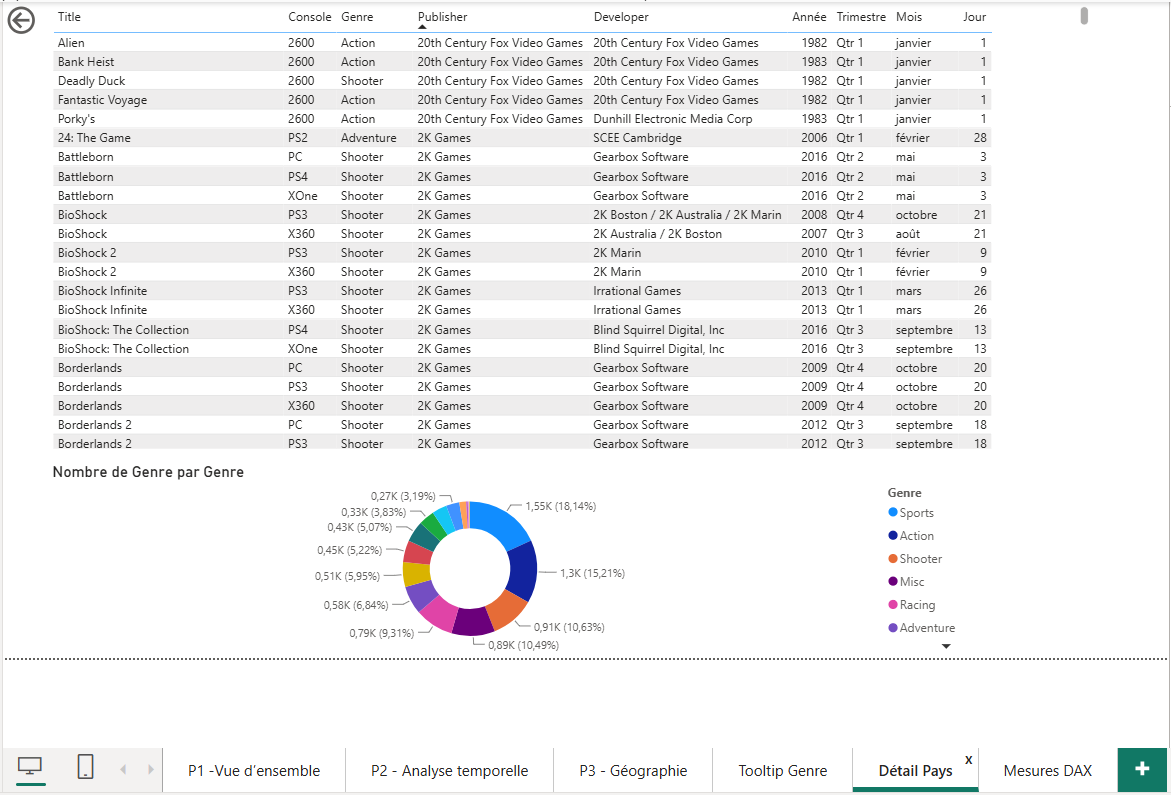

The page's visual inventory and layout, read from the dashboard file:
{"tool":"powerbi","page":{"name":"Détail Pays","canvas":[1280,720],"ordinal":4},"visuals":[{"type":"actionButton","box":[0,0,100,40],"z":0},{"type":"tableEx","fields":{"Values":["Titles.Title","Titles.Console","Titles.Genre","Titles.Publisher","Titles.Developer","Titles.Release Date.Variation.Hiérarchie de dates.Année","Titles.Release Date.Variation.Hiérarchie de dates.Trimestre","Titles.Release Date.Variation.Hiérarchie de dates.Mois","Titles.Release Date.Variation.Hiérarchie de dates.Jour"]},"box":[49.4,0,1147.2,495.4],"z":1000},{"type":"donutChart","fields":{"Y":["CountNonNull(Titles.Genre)"],"Category":["Titles.Genre"]},"box":[49.4,505,1053.9,215.4],"z":2000}]}

Visuals, with their boxes on the page's 1280x720 design canvas (x1, y1, x2, y2). These are canvas units, not pixel positions in the 1171x795 screenshot, which may show the page scaled, cropped or inside an application window:
actionButton: bbox=(0, 0, 100, 40)
tableEx - Titles.Title x Titles.Console: bbox=(49, 0, 1197, 495)
donutChart - CountNonNull(Titles.Genre) x Titles.Genre: bbox=(49, 505, 1103, 720)
